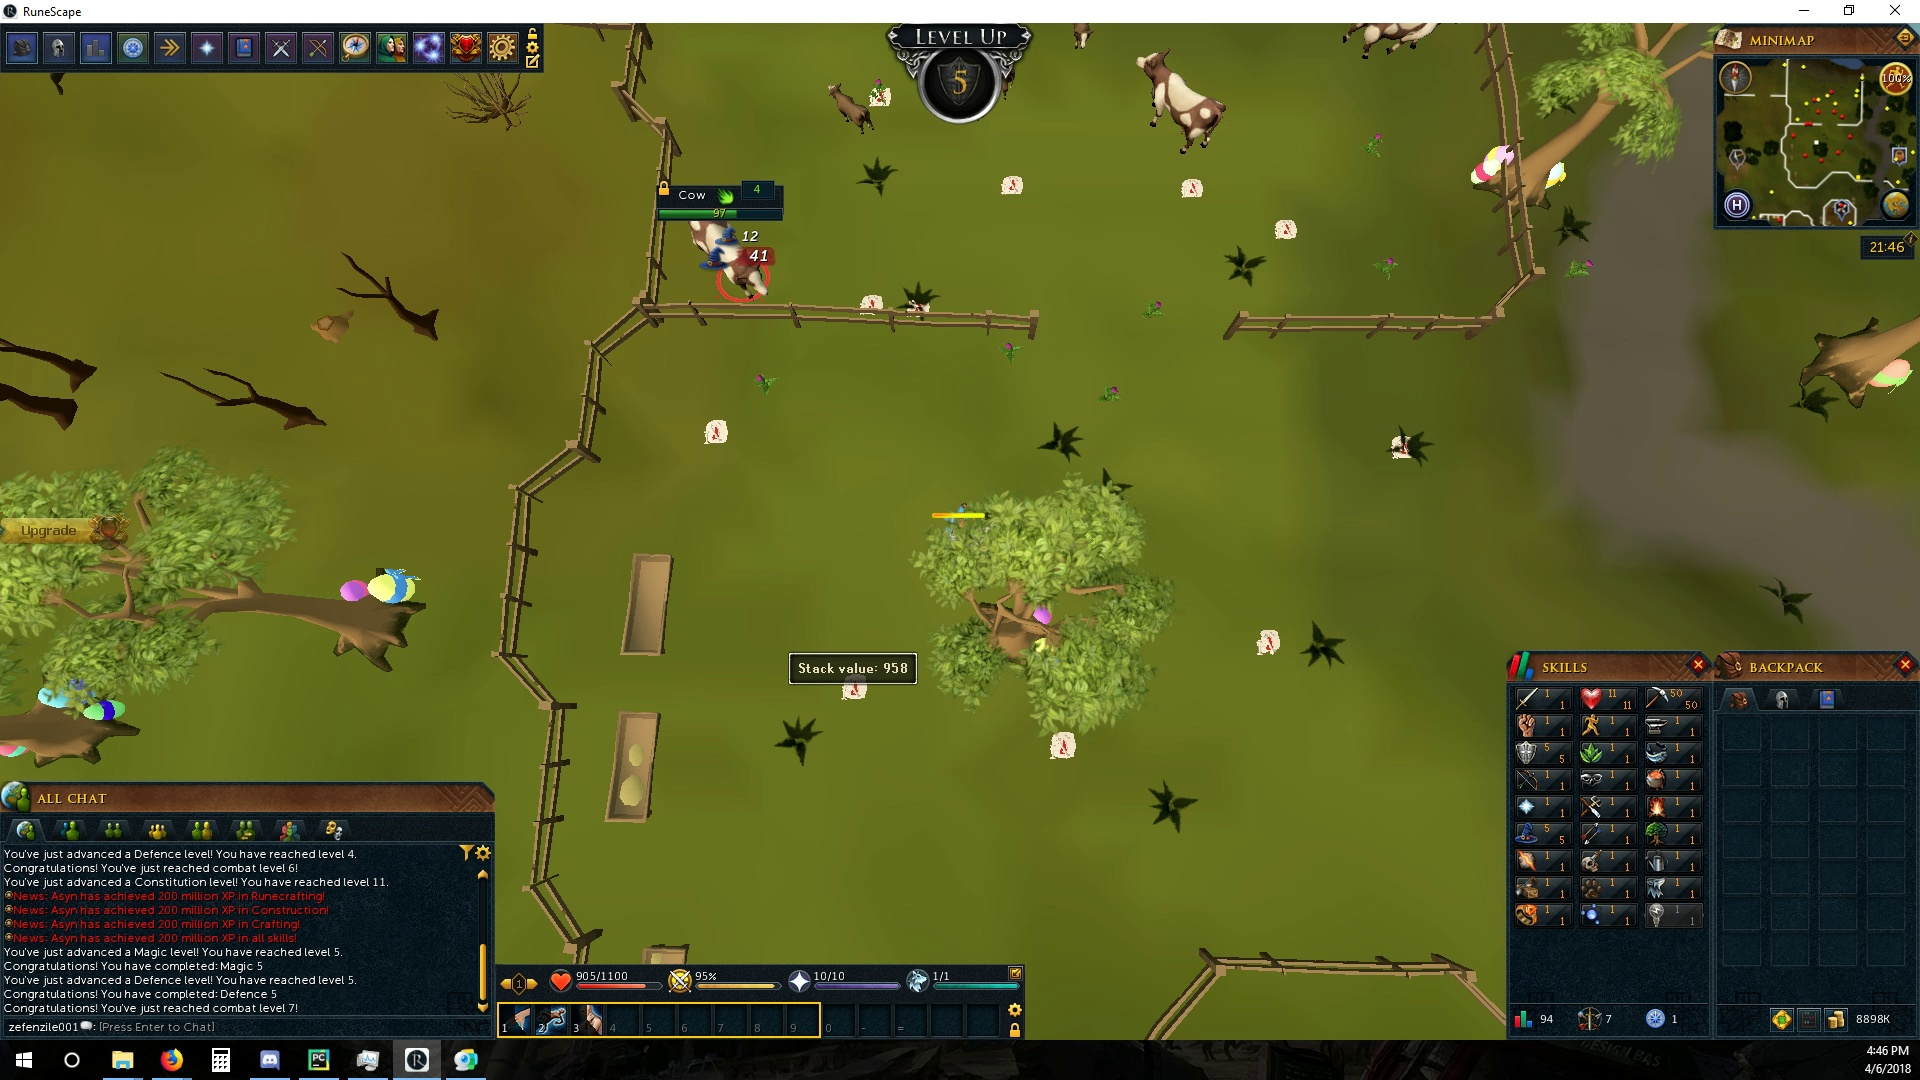calf: (823, 80, 877, 135)
cow: (1127, 47, 1229, 158), (676, 222, 773, 306)
cow_drop: (1386, 433, 1422, 465), (1044, 729, 1077, 761), (1253, 624, 1280, 659), (1271, 212, 1300, 245), (837, 679, 874, 702), (1178, 173, 1207, 200), (700, 418, 731, 444), (856, 290, 886, 315), (1000, 173, 1022, 196)
